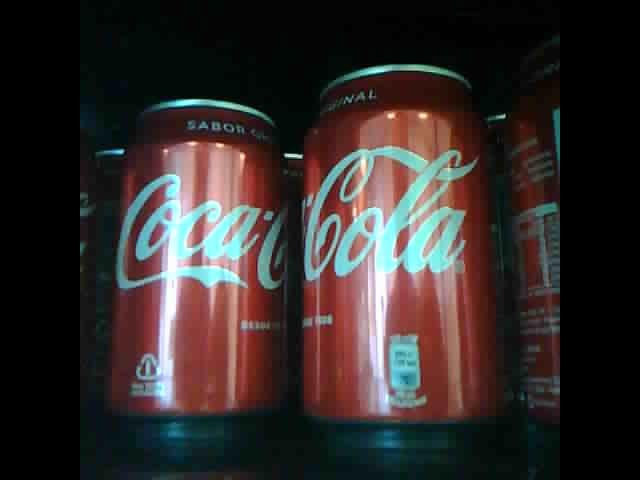coca cola: (301, 67, 497, 434), (105, 95, 288, 434), (479, 59, 560, 422), (85, 140, 127, 409)
